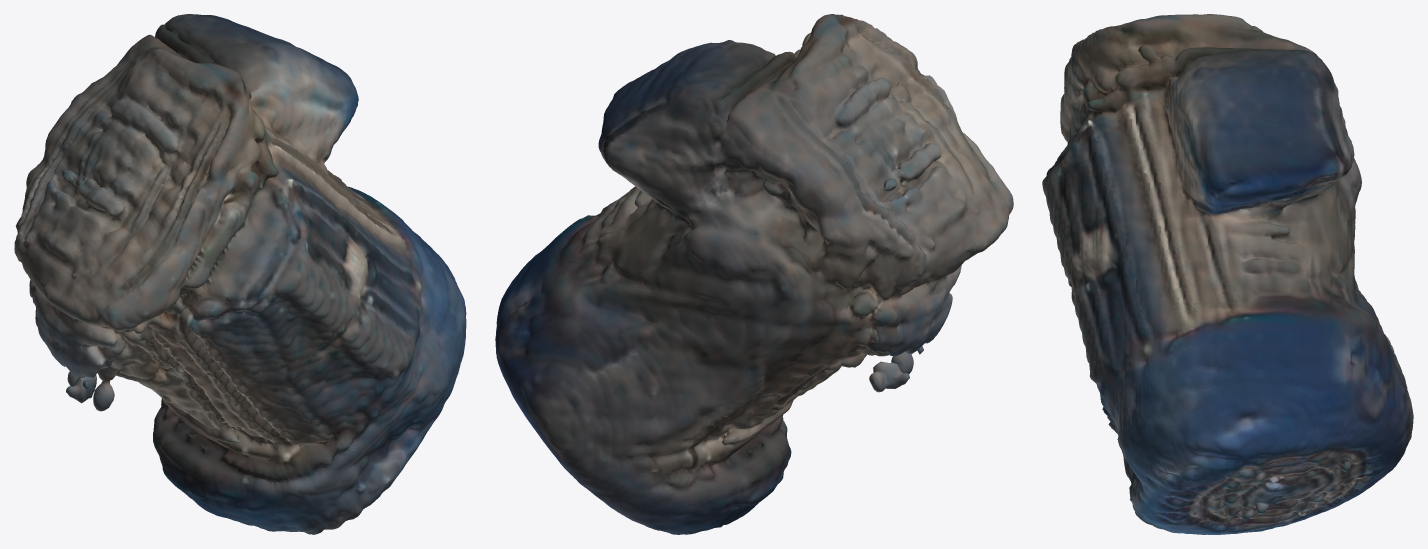
3 renders of one model, left to right at view 1: azimuth 30°, elevation 25°; view 2: azimuth 150°, elevation 25°; view 3: azimuth 270°, elevation 25°, orthographic. The views are drawn at different scales.
Size of the model in its own units: 0.8974 by 0.9863 by 0.7034.
1 material, 1 textured.
